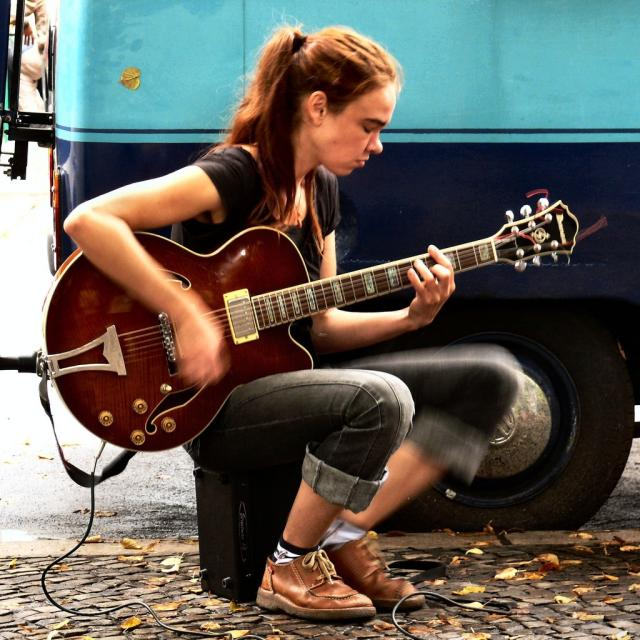guitar: (41, 200, 581, 462)
